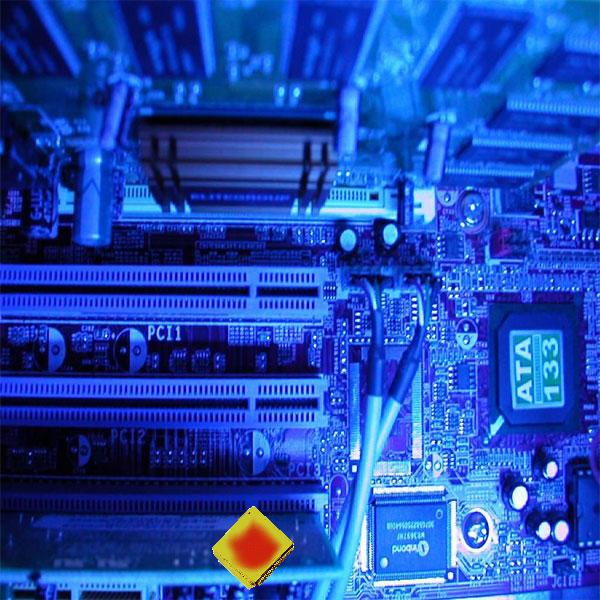componente_T: (209, 503, 298, 590)
